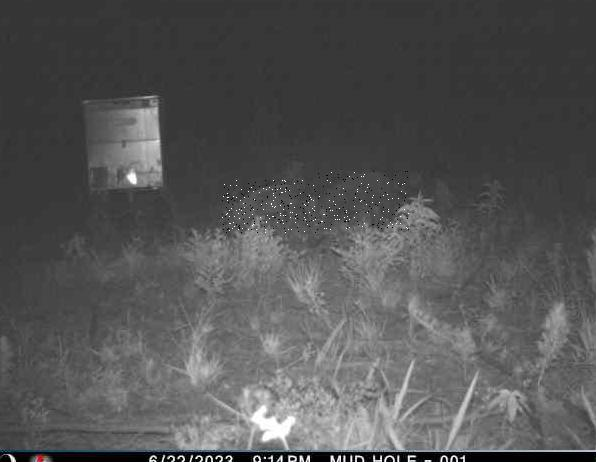Hog: (317, 172, 409, 231), (223, 181, 317, 234)
